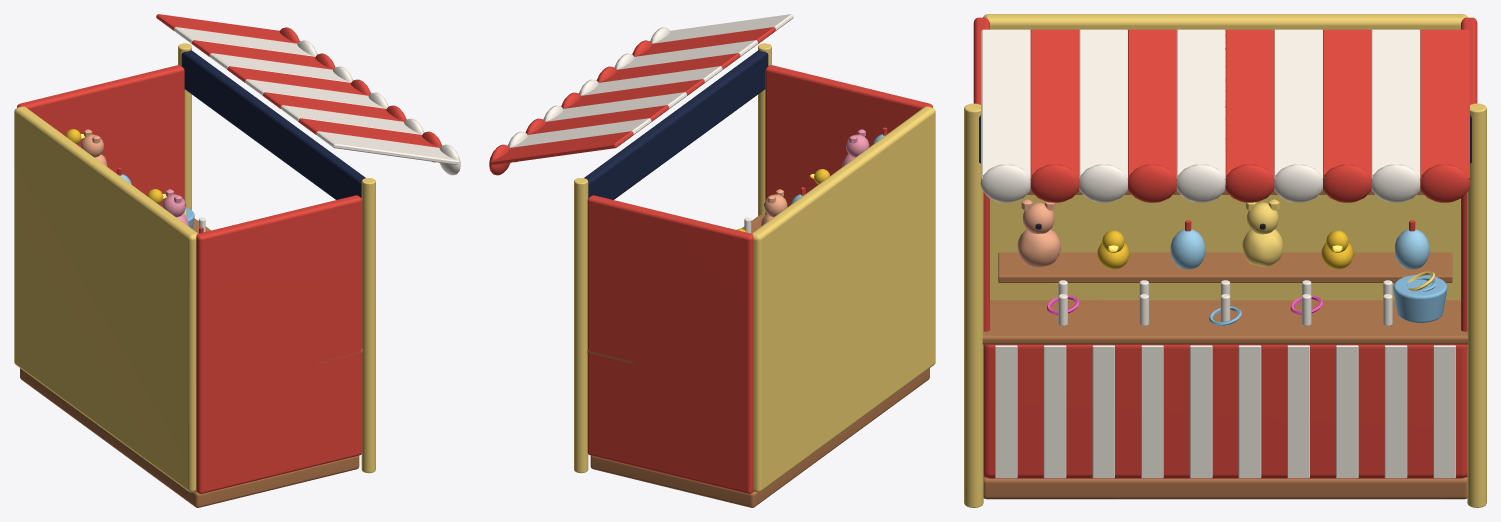
Rendered from hoopla_stall.glb.
3 views of the same model, side by side, from view 1: azimuth 30°, elevation 25°; view 2: azimuth 150°, elevation 25°; view 3: azimuth 270°, elevation 25° (orthographic). The views are drawn at different scales.
Visible parts, largest first — view 1: hoopla_stall; view 2: hoopla_stall; view 3: hoopla_stall.
Boxes of the visible parts, box(x1,y1,x2,y2) form: hoopla_stall: box(14, 14, 460, 507); hoopla_stall: box(489, 14, 935, 507); hoopla_stall: box(964, 14, 1486, 507).
Bounding box in the file's own units: 2.67 × 3.09 × 3.22.
Materials: 1 (1 with a texture image).
